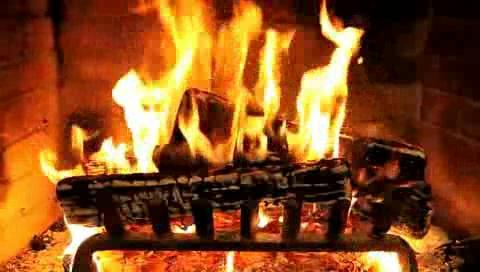fire: (38, 2, 384, 177), (49, 216, 405, 271)
